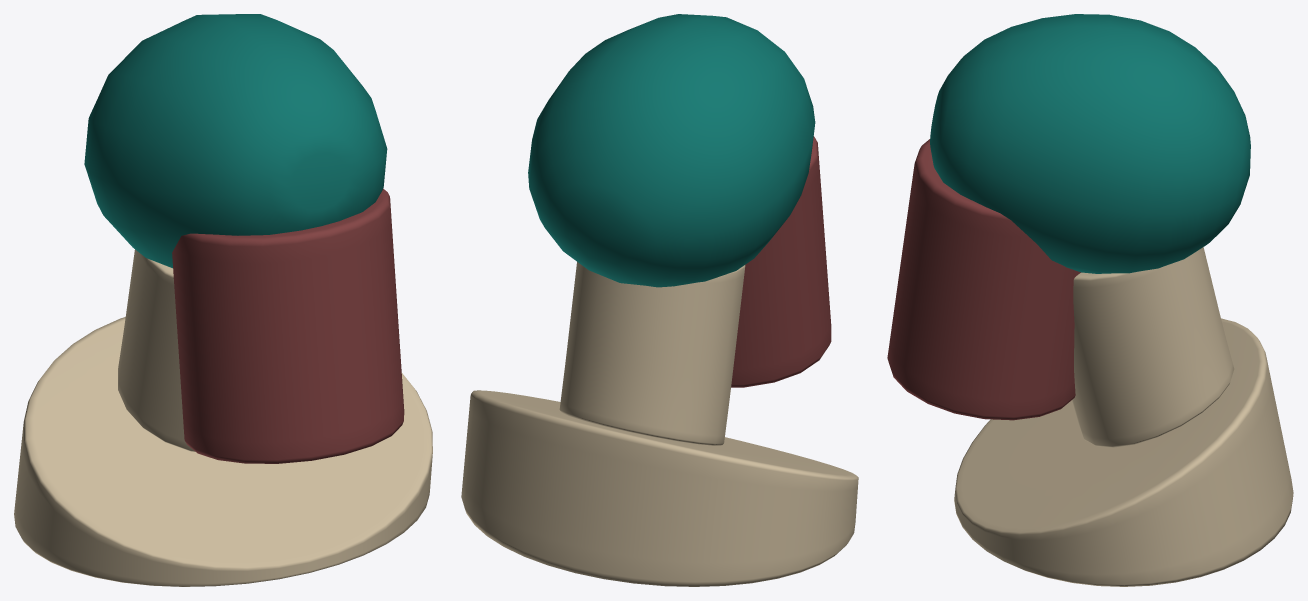
File: 3d-skull-primitives.gltf
3 renders of one model, left to right at view 1: azimuth 30°, elevation 25°; view 2: azimuth 150°, elevation 25°; view 3: azimuth 270°, elevation 25°, orthographic. The views are drawn at different scales.
Visible parts, largest first — view 1: torso, neurocranium, splanchnocranium, neck; view 2: neurocranium, torso, neck, splanchnocranium; view 3: neurocranium, torso, splanchnocranium, neck.
Part boxes in pixels (box(x1,y1,x2,y2)): torso: box(14, 317, 432, 586); neurocranium: box(84, 14, 387, 268); splanchnocranium: box(172, 189, 404, 463); neck: box(118, 249, 195, 451); neurocranium: box(528, 14, 815, 287); torso: box(461, 390, 858, 586); neck: box(559, 262, 745, 445); splanchnocranium: box(731, 136, 831, 387); neurocranium: box(930, 14, 1250, 273); torso: box(954, 318, 1293, 586); splanchnocranium: box(887, 139, 1080, 420); neck: box(1072, 247, 1234, 447).
Size of the model in its own units: 2.86 by 3.59 by 2.79.
